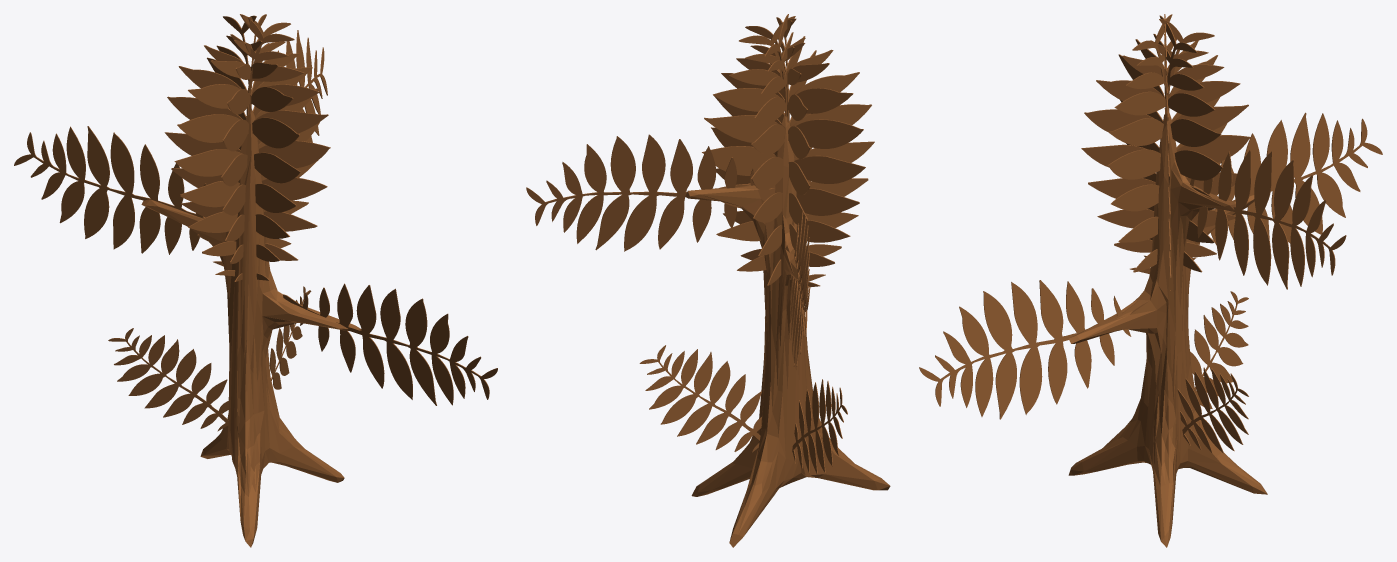
The model's file is tree 5.fbx.
3 renders of one model, left to right at view 1: azimuth 30°, elevation 25°; view 2: azimuth 150°, elevation 25°; view 3: azimuth 270°, elevation 25°, orthographic. The views are drawn at different scales.
Visible parts, largest first — view 1: tree_5; view 2: tree_5; view 3: tree_5.
Part boxes in pixels (x1,y1,x2,y2): tree_5: (14,14,497,547); tree_5: (526,14,890,547); tree_5: (919,14,1382,547).
Bounding box in the file's own units: 716 × 1148 × 995.
